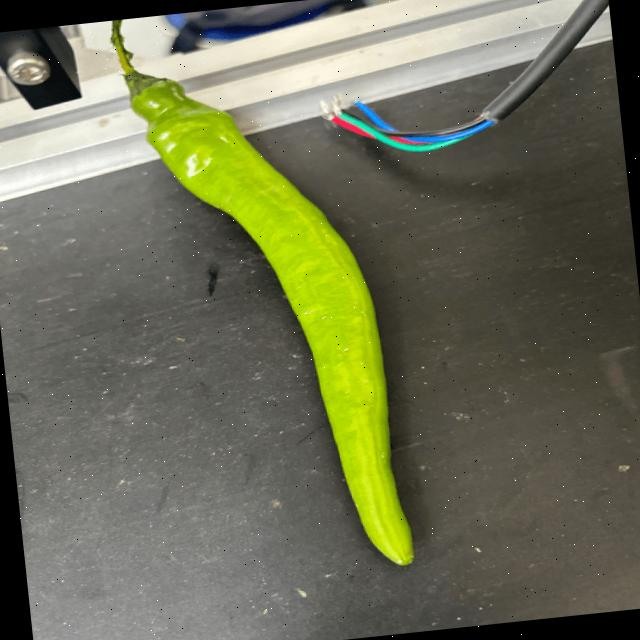chili: (124, 73, 414, 566)
